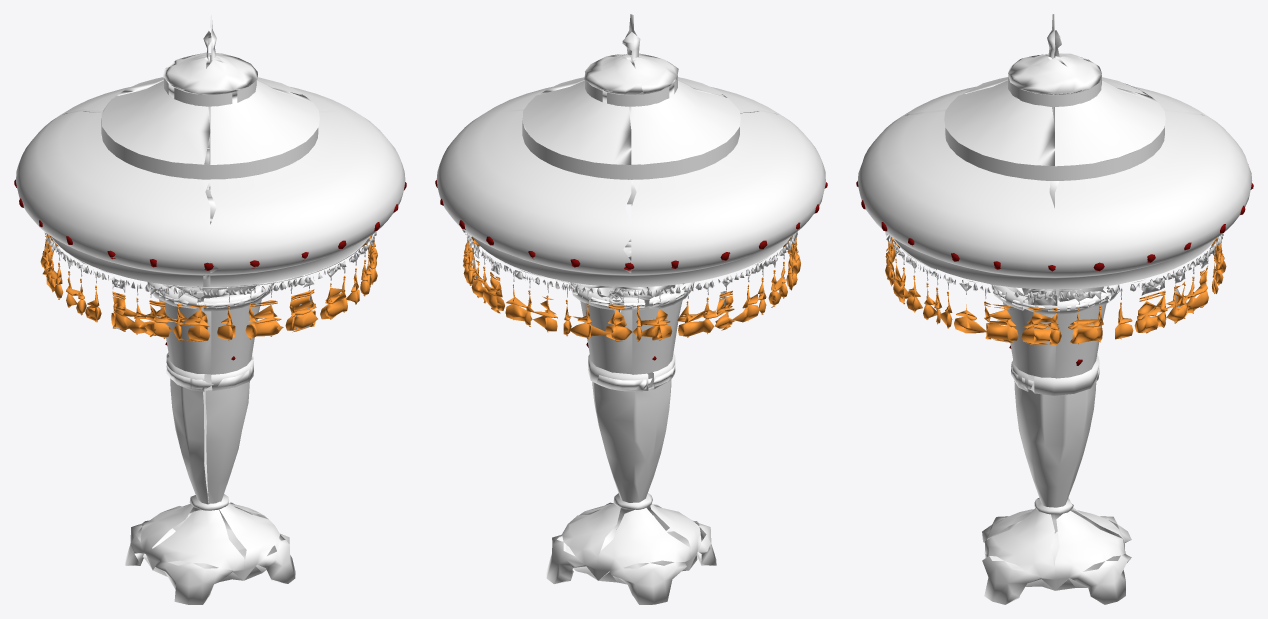
The model's file is M_StainedLamp_LOD2.obj.
3 views of the same model, side by side, from view 1: azimuth 30°, elevation 25°; view 2: azimuth 150°, elevation 25°; view 3: azimuth 270°, elevation 25° (orthographic).
Parts seen in each view (by area): view 1: M_StainedLamp_stainedglass_m6, M_StainedLamp_base_m5, M_StainedLamp_amberbeads_m2, M_StainedLamp_grill_m0, M_StainedLamp_hardware_m4, M_StainedLamp_steel_m1, M_StainedLamp_redgems_m3; view 2: M_StainedLamp_stainedglass_m6, M_StainedLamp_base_m5, M_StainedLamp_grill_m0, M_StainedLamp_amberbeads_m2, M_StainedLamp_hardware_m4, M_StainedLamp_steel_m1, M_StainedLamp_redgems_m3; view 3: M_StainedLamp_stainedglass_m6, M_StainedLamp_base_m5, M_StainedLamp_amberbeads_m2, M_StainedLamp_grill_m0, M_StainedLamp_hardware_m4, M_StainedLamp_steel_m1, M_StainedLamp_redgems_m3.
Boxes of the visible parts, x1,y1,x2,y2 form: M_StainedLamp_stainedglass_m6: (16, 68, 405, 374); M_StainedLamp_base_m5: (125, 261, 295, 604); M_StainedLamp_amberbeads_m2: (40, 233, 377, 341); M_StainedLamp_grill_m0: (101, 52, 318, 179); M_StainedLamp_hardware_m4: (44, 15, 376, 304); M_StainedLamp_steel_m1: (46, 233, 372, 329); M_StainedLamp_redgems_m3: (14, 179, 406, 360); M_StainedLamp_stainedglass_m6: (436, 68, 825, 374); M_StainedLamp_base_m5: (546, 238, 716, 604); M_StainedLamp_grill_m0: (522, 53, 739, 179); M_StainedLamp_amberbeads_m2: (463, 235, 800, 341); M_StainedLamp_hardware_m4: (462, 14, 797, 296); M_StainedLamp_steel_m1: (466, 233, 795, 314); M_StainedLamp_redgems_m3: (435, 180, 827, 360); M_StainedLamp_stainedglass_m6: (857, 77, 1252, 378); M_StainedLamp_base_m5: (982, 284, 1131, 604); M_StainedLamp_amberbeads_m2: (885, 237, 1226, 345); M_StainedLamp_grill_m0: (945, 53, 1164, 180); M_StainedLamp_hardware_m4: (885, 14, 1223, 302); M_StainedLamp_steel_m1: (889, 235, 1220, 308); M_StainedLamp_redgems_m3: (856, 181, 1253, 365).
Bounding box in the file's own units: 0.4399 × 0.6861 × 0.4399.
